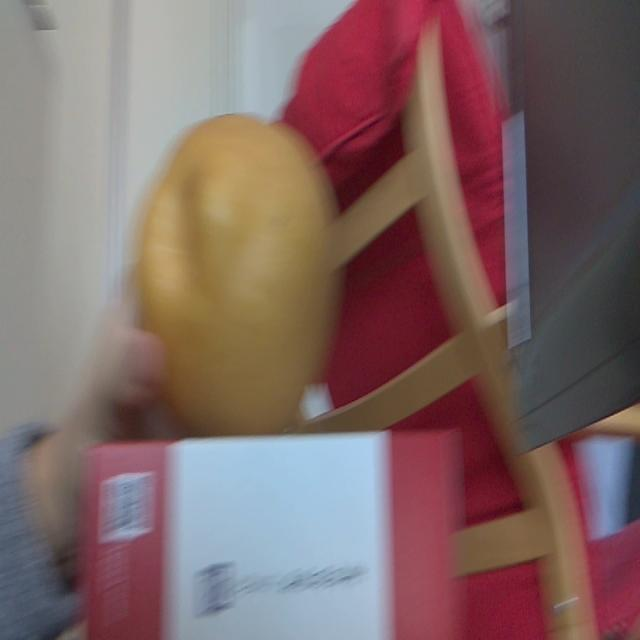pear: (136, 114, 332, 432)
